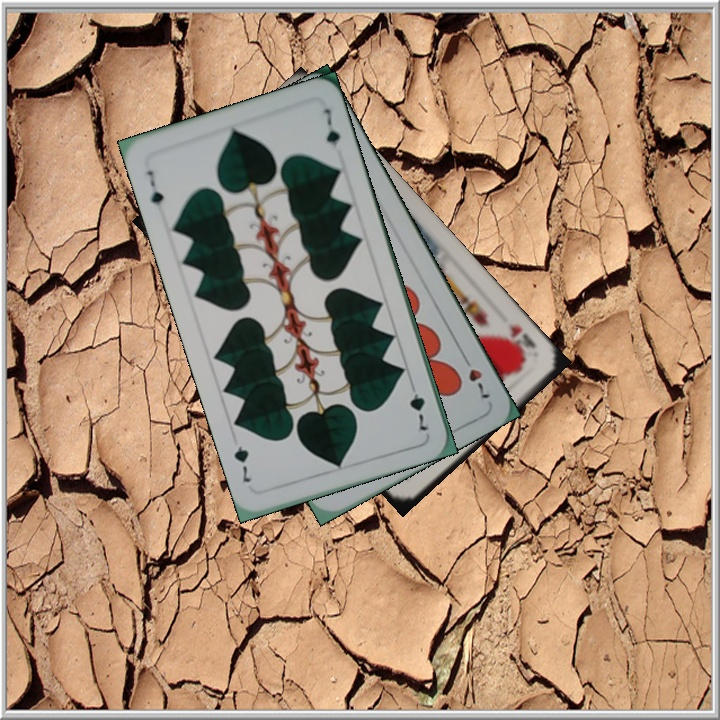G7: (405, 377, 432, 434), (142, 166, 166, 216)
H7: (457, 349, 492, 404)
HK: (500, 320, 539, 363)
